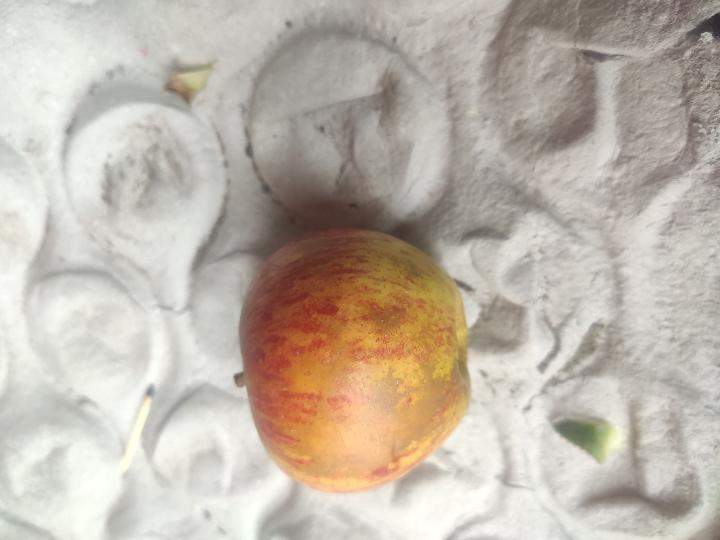apple: (240, 229, 470, 492)
bruise_discoloration: (266, 307, 470, 492)
